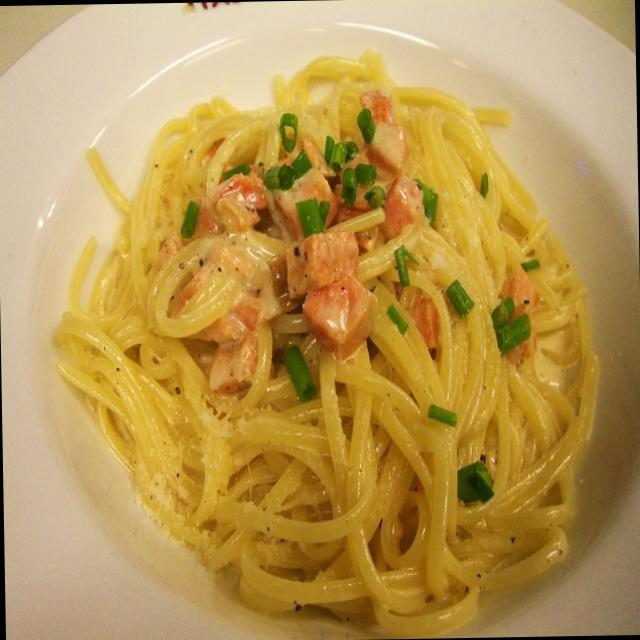Pasta: (59, 40, 607, 626)
